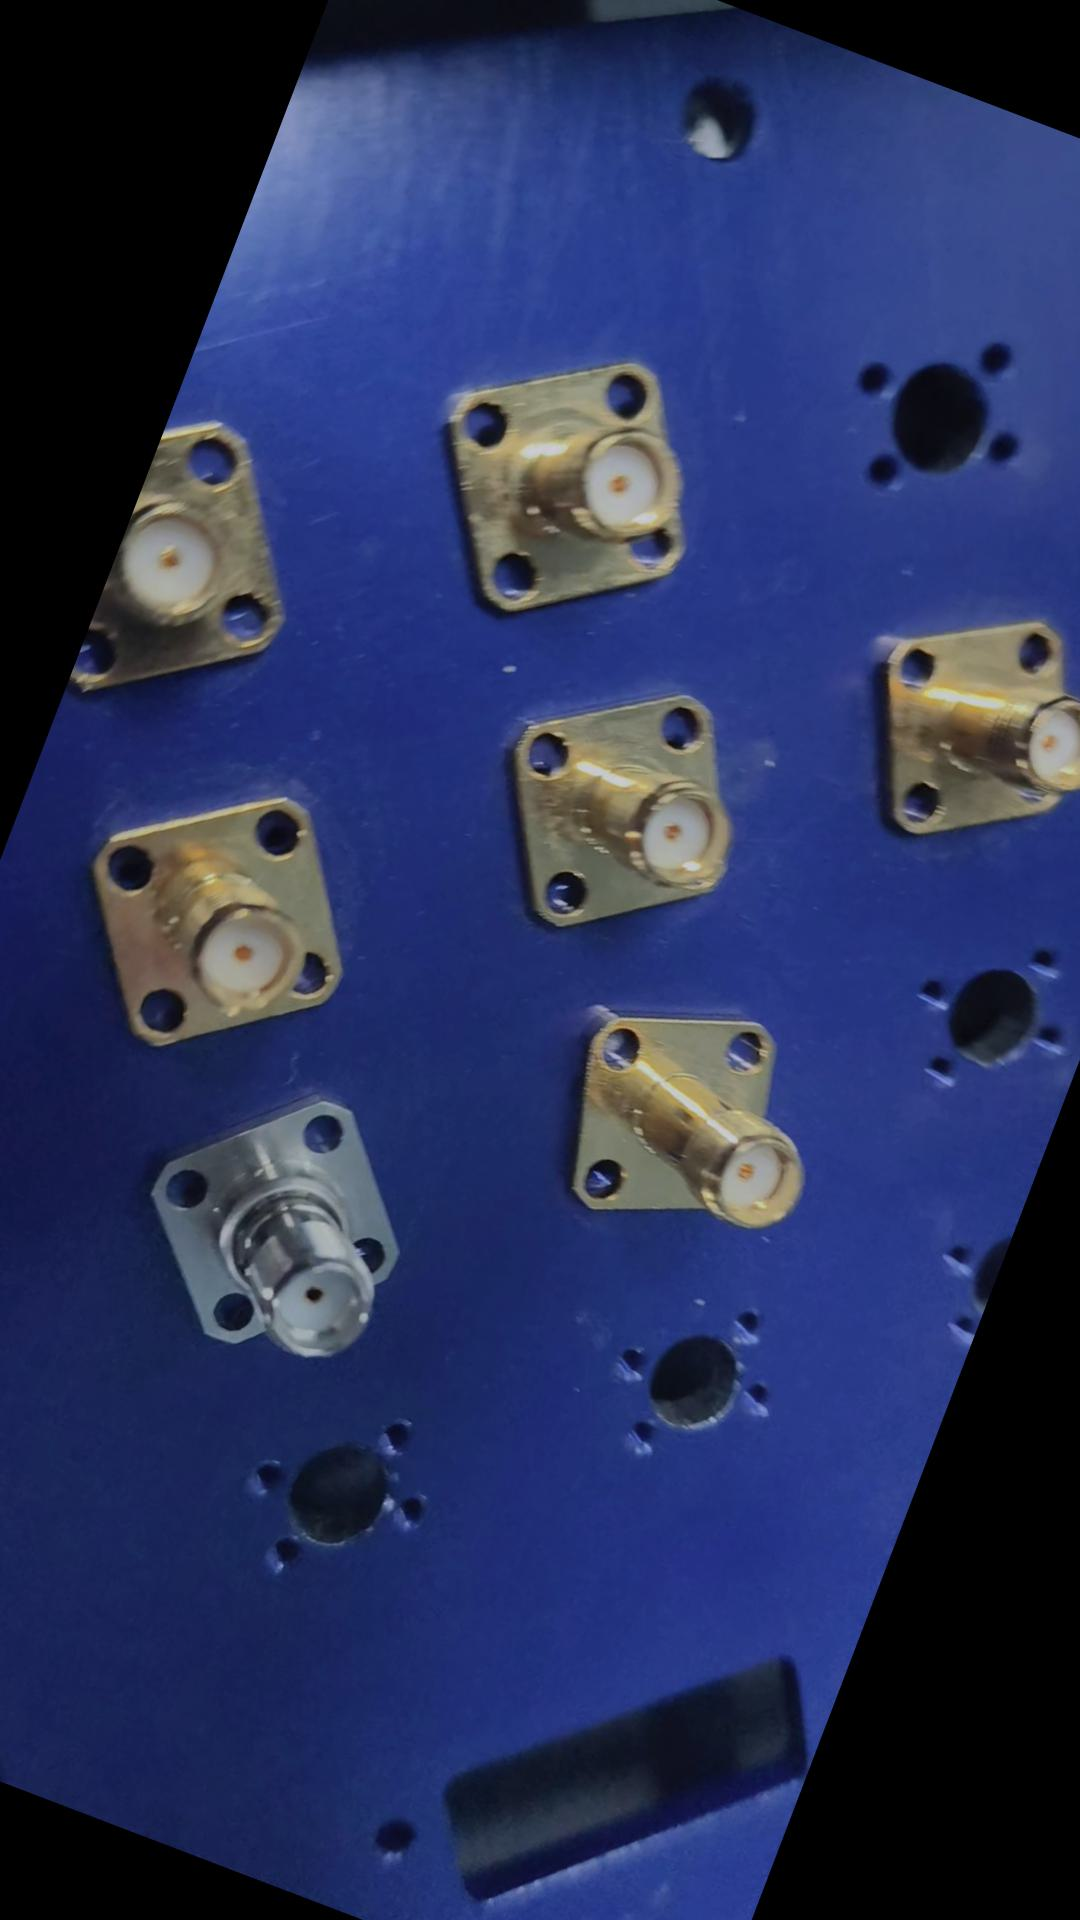SMA: (44, 729, 409, 1105), (108, 1038, 460, 1407), (398, 307, 742, 669), (469, 644, 790, 985), (530, 969, 858, 1286), (822, 571, 1079, 899)
